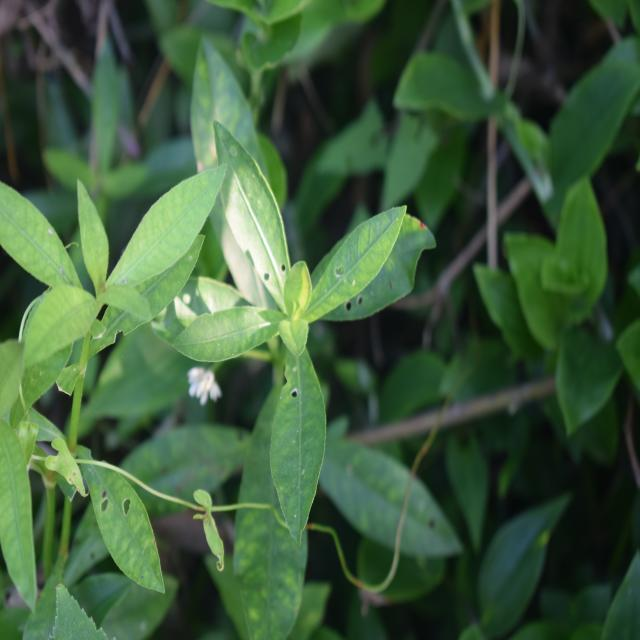Alligatorweed: (175, 106, 412, 534), (0, 146, 205, 577)
